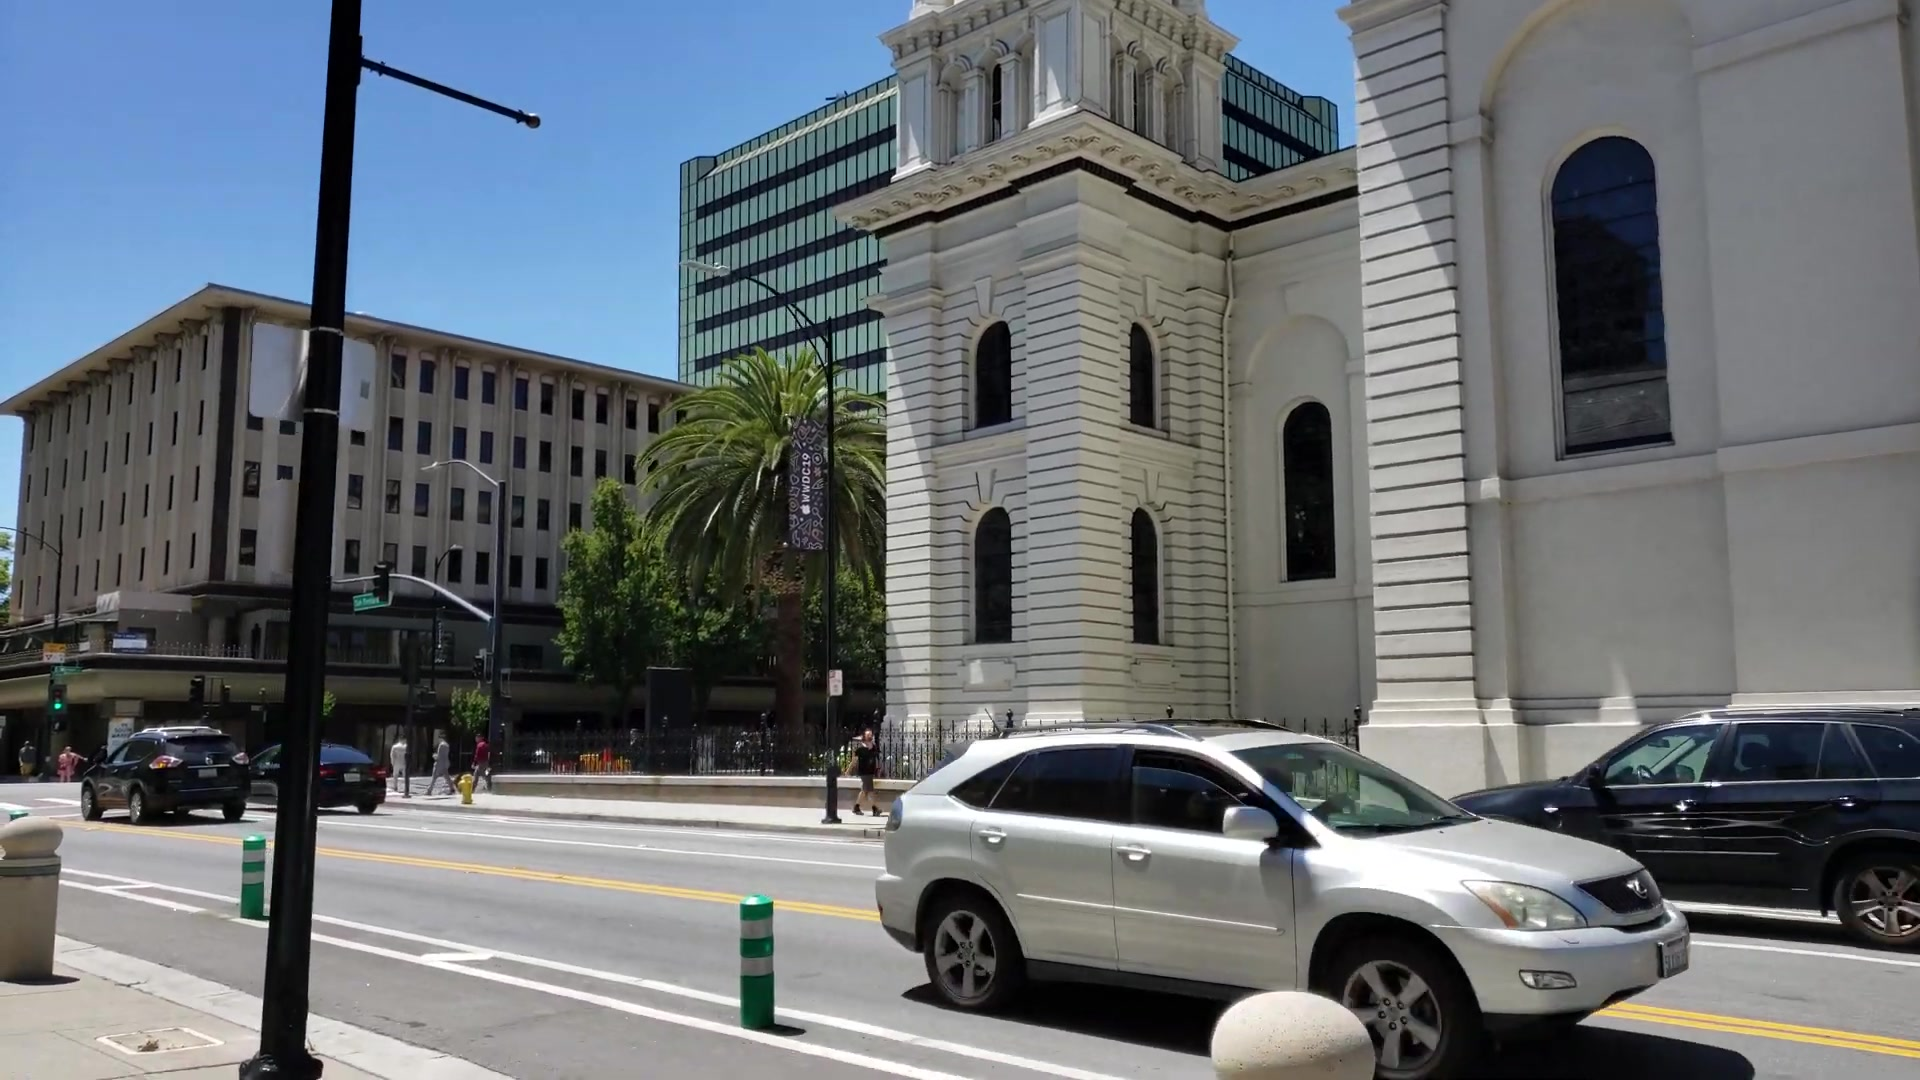vehicle_away: (80, 724, 253, 825)
vehicle_toward: (878, 723, 1696, 1077)
